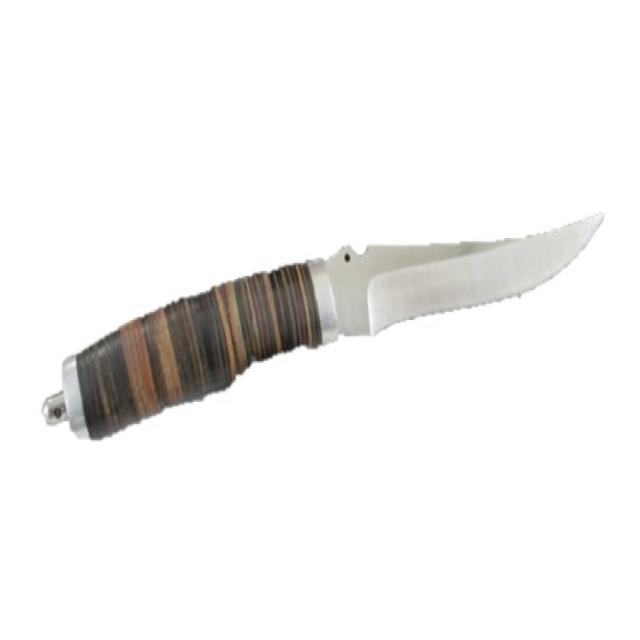knife: (42, 199, 611, 454)
